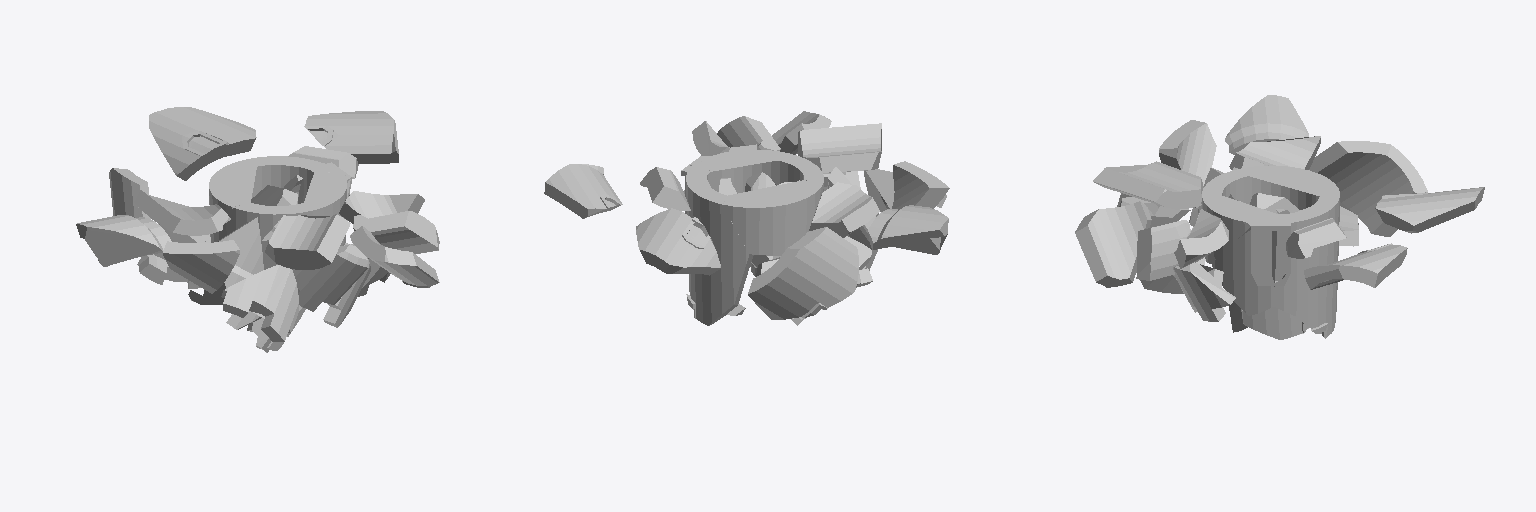
Rendered from destruction_tower_000056.obj.
3 views of the same model, side by side, from view 1: azimuth 30°, elevation 25°; view 2: azimuth 150°, elevation 25°; view 3: azimuth 270°, elevation 25° (orthographic).
Visible parts, largest first — view 1: tower.001_cell.025_Mesh.025, tower.001_cell.012_Mesh.012, tower.001_cell.006_Mesh.006, tower.001_cell.024_Mesh.024, tower.001_cell.005_Mesh.005, tower.001_cell.002_Mesh.002, tower.001_cell.011_Mesh.011, tower.001_cell_Mesh, tower.001_cell.009_Mesh.009, tower.001_cell.021_Mesh.021, tower.001_cell.015_Mesh.015, tower.001_cell.013_Mesh.013 (+9 smaller); view 2: tower.001_cell.003_Mesh.003, tower.001_cell.017_Mesh.017, tower.001_cell.015_Mesh.015, tower.001_cell.025_Mesh.025, tower.001_cell.024_Mesh.024, tower.001_cell.005_Mesh.005, tower.001_cell.012_Mesh.012, tower.001_cell.028_Mesh.028, tower.001_cell.009_Mesh.009, tower.001_cell.002_Mesh.002, tower.001_cell_Mesh, tower.001_cell.016_Mesh.016 (+5 smaller); view 3: tower.001_cell.003_Mesh.003, tower.001_cell.021_Mesh.021, tower.001_cell.020_Mesh.020, tower.001_cell.017_Mesh.017, tower.001_cell.024_Mesh.024, tower.001_cell.025_Mesh.025, tower.001_cell.005_Mesh.005, tower.001_cell.012_Mesh.012, tower.001_cell.015_Mesh.015, tower.001_cell.002_Mesh.002, tower.001_cell_Mesh, tower.001_cell.030_Mesh.030 (+11 smaller).
Boxes of the visible parts, box(x1,y1,x2,y2) form: tower.001_cell.025_Mesh.025: box(149, 107, 256, 180); tower.001_cell.012_Mesh.012: box(304, 111, 398, 163); tower.001_cell.006_Mesh.006: box(221, 265, 298, 341); tower.001_cell.024_Mesh.024: box(265, 214, 350, 269); tower.001_cell.005_Mesh.005: box(76, 215, 171, 266); tower.001_cell.002_Mesh.002: box(163, 240, 239, 293); tower.001_cell.011_Mesh.011: box(292, 244, 368, 311); tower.001_cell_Mesh: box(353, 211, 439, 253); tower.001_cell.009_Mesh.009: box(134, 190, 230, 235); tower.001_cell.021_Mesh.021: box(350, 226, 439, 287); tower.001_cell.015_Mesh.015: box(209, 161, 256, 242); tower.001_cell.013_Mesh.013: box(188, 217, 263, 304); tower.001_cell.003_Mesh.003: box(748, 227, 858, 319); tower.001_cell.017_Mesh.017: box(686, 174, 753, 325); tower.001_cell.015_Mesh.015: box(723, 180, 822, 255); tower.001_cell.025_Mesh.025: box(636, 208, 720, 275); tower.001_cell.024_Mesh.024: box(798, 123, 881, 174); tower.001_cell.005_Mesh.005: box(868, 205, 948, 254); tower.001_cell.012_Mesh.012: box(544, 164, 622, 218); tower.001_cell.028_Mesh.028: box(701, 150, 813, 193); tower.001_cell.009_Mesh.009: box(809, 182, 879, 237); tower.001_cell.002_Mesh.002: box(892, 161, 949, 209); tower.001_cell_Mesh: box(717, 116, 780, 150); tower.001_cell.016_Mesh.016: box(640, 167, 690, 210); tower.001_cell.003_Mesh.003: box(1309, 141, 1427, 236); tower.001_cell.021_Mesh.021: box(1075, 201, 1151, 287); tower.001_cell.020_Mesh.020: box(1212, 221, 1276, 315); tower.001_cell.017_Mesh.017: box(1296, 194, 1339, 338); tower.001_cell.024_Mesh.024: box(1093, 161, 1203, 209); tower.001_cell.025_Mesh.025: box(1375, 187, 1484, 233); tower.001_cell.005_Mesh.005: box(1225, 95, 1308, 154); tower.001_cell.012_Mesh.012: box(1304, 243, 1407, 289); tower.001_cell.015_Mesh.015: box(1249, 166, 1339, 209); tower.001_cell.002_Mesh.002: box(1159, 120, 1216, 185); tower.001_cell_Mesh: box(1136, 220, 1190, 280); tower.001_cell.030_Mesh.030: box(1173, 262, 1235, 321).
Bounding box in the file's own units: 126 × 53.28 × 127.